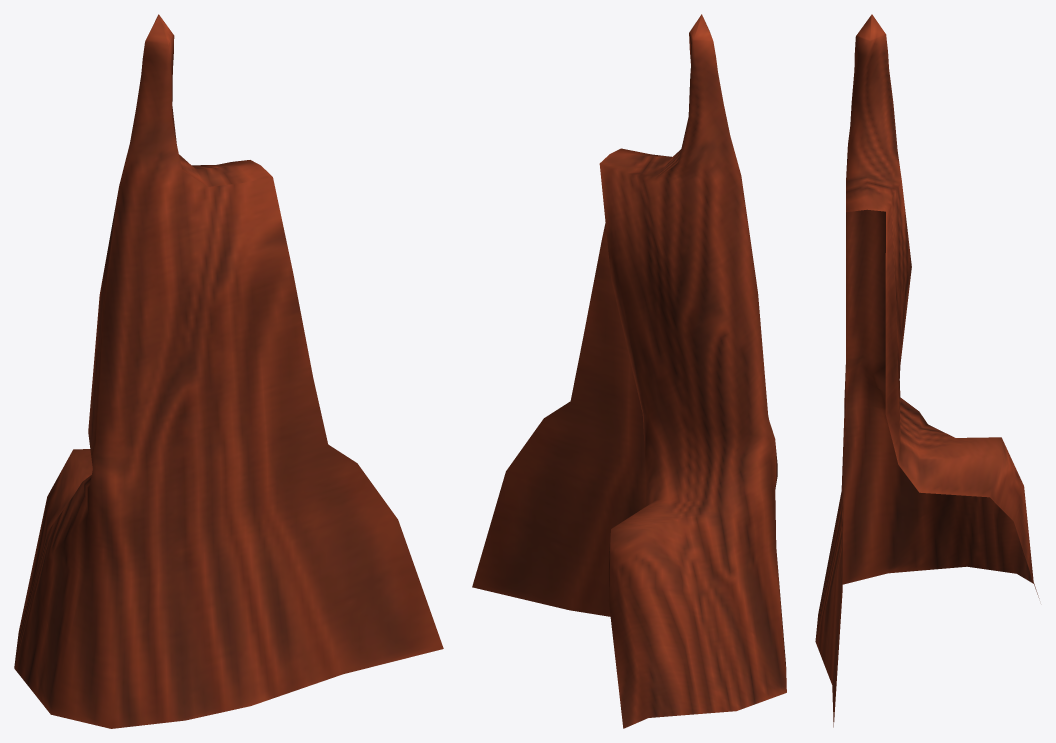
The model's file is Throne01_Maincity_002.FBX.
3 views of the same model, side by side, from view 1: azimuth 30°, elevation 25°; view 2: azimuth 150°, elevation 25°; view 3: azimuth 270°, elevation 25° (orthographic). The views are drawn at different scales.
Visible parts, largest first — view 1: Throne01_Maincity_002; view 2: Throne01_Maincity_002; view 3: Throne01_Maincity_002.
Part boxes in pixels (bbox=[...]): Throne01_Maincity_002: bbox=[14, 14, 443, 728]; Throne01_Maincity_002: bbox=[472, 14, 786, 728]; Throne01_Maincity_002: bbox=[815, 14, 1039, 727].
Size of the model in its own units: 456 by 822 by 280.
Materials: 1 (1 with a texture image).
